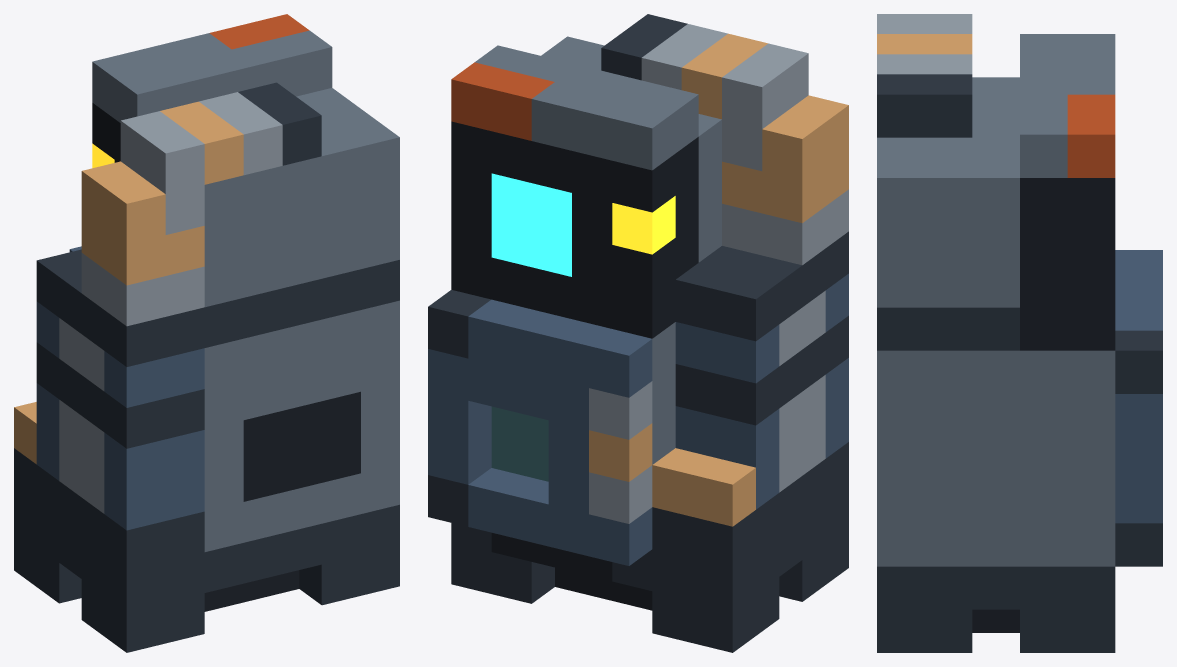
The model's file is md2p_humidity_generator.glb.
The picture shows the model from 3 angles, left to right: view 1: azimuth 30°, elevation 25°; view 2: azimuth 150°, elevation 25°; view 3: azimuth 270°, elevation 25°; orthographic projection. The views are drawn at different scales.
Parts seen in each view (by area): view 1: prop; view 2: prop, emit_display, emit_standby_led; view 3: prop.
Boxes of the visible parts, <box> form: prop: <box>14,14,399,652</box>; prop: <box>428,14,848,652</box>; emit_display: <box>491,173,571,276</box>; emit_standby_led: <box>612,196,675,254</box>; prop: <box>877,14,1162,652</box>.
Size of the model in its own units: 7 by 12 by 6.
